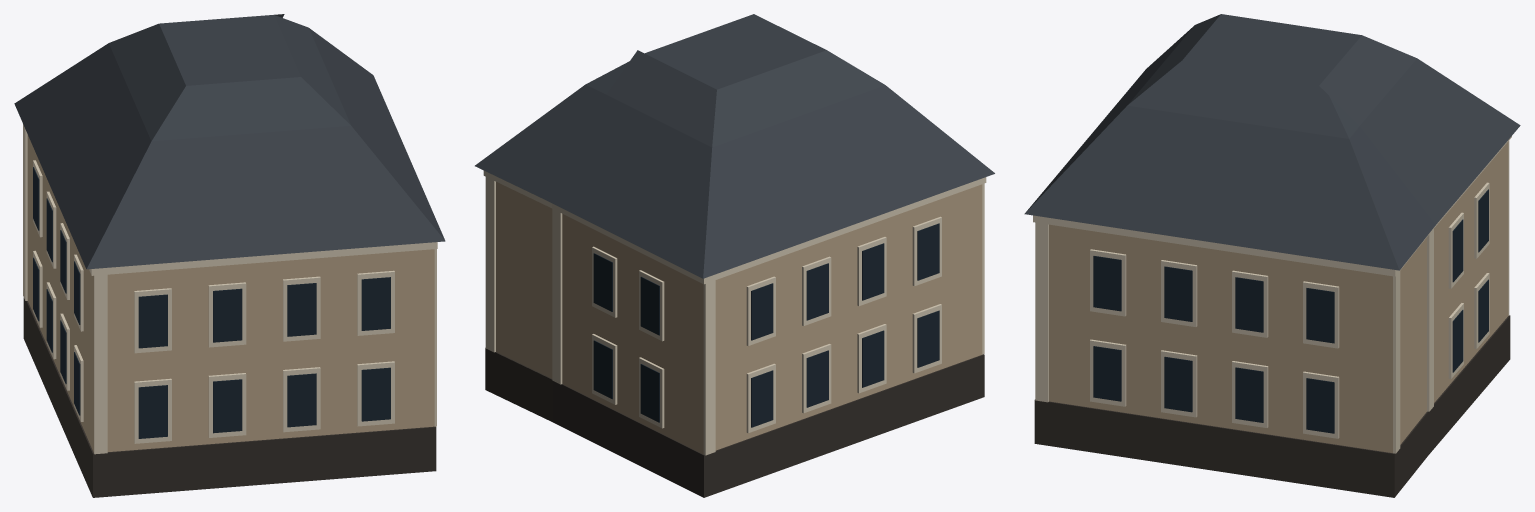
Rendered from altes-rathaus.glb.
3 views of the same model, side by side, from view 1: azimuth 30°, elevation 25°; view 2: azimuth 150°, elevation 25°; view 3: azimuth 270°, elevation 25° (orthographic). The views are drawn at different scales.
Visible parts, largest first — view 1: altes-rathaus_lod0; view 2: altes-rathaus_lod0; view 3: altes-rathaus_lod0.
Boxes of the visible parts, bbox=[...] form: altes-rathaus_lod0: bbox=[14, 14, 445, 497]; altes-rathaus_lod0: bbox=[475, 14, 994, 497]; altes-rathaus_lod0: bbox=[1024, 14, 1520, 497].
Size of what is drawn, in the model's own units: 17.72 by 14.5 by 18.45.
